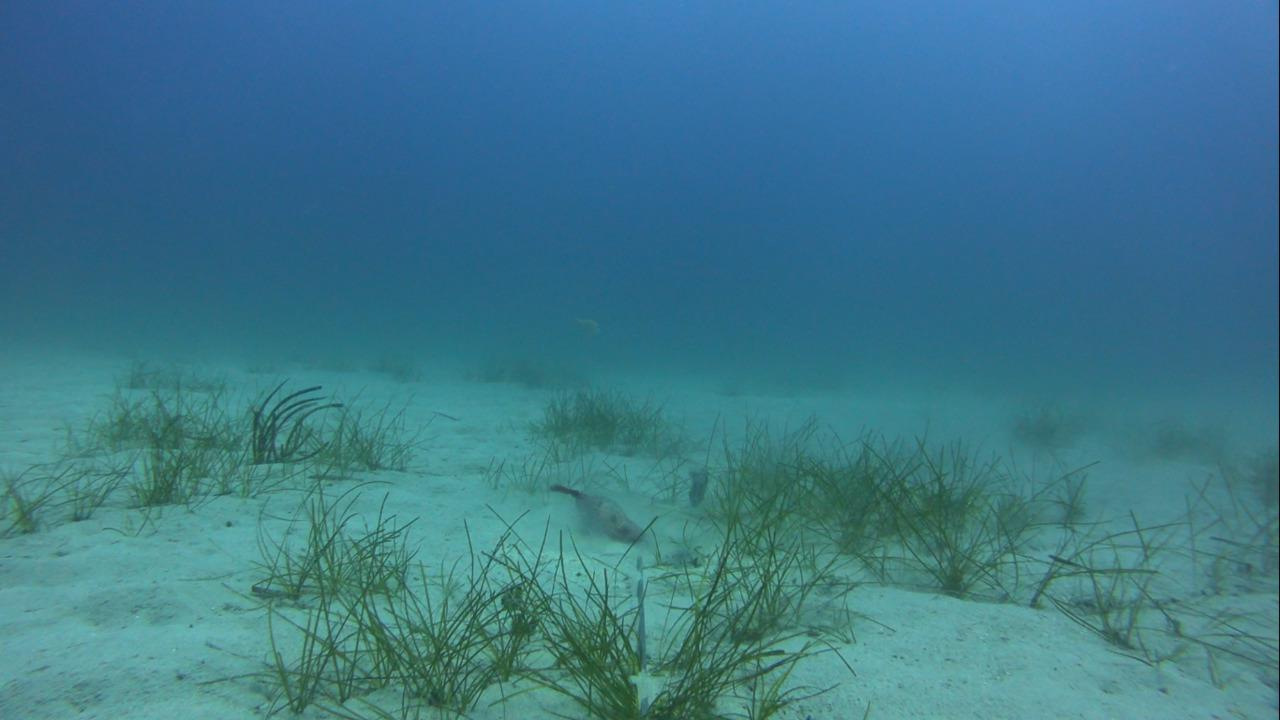raor: (680, 455, 713, 508)
